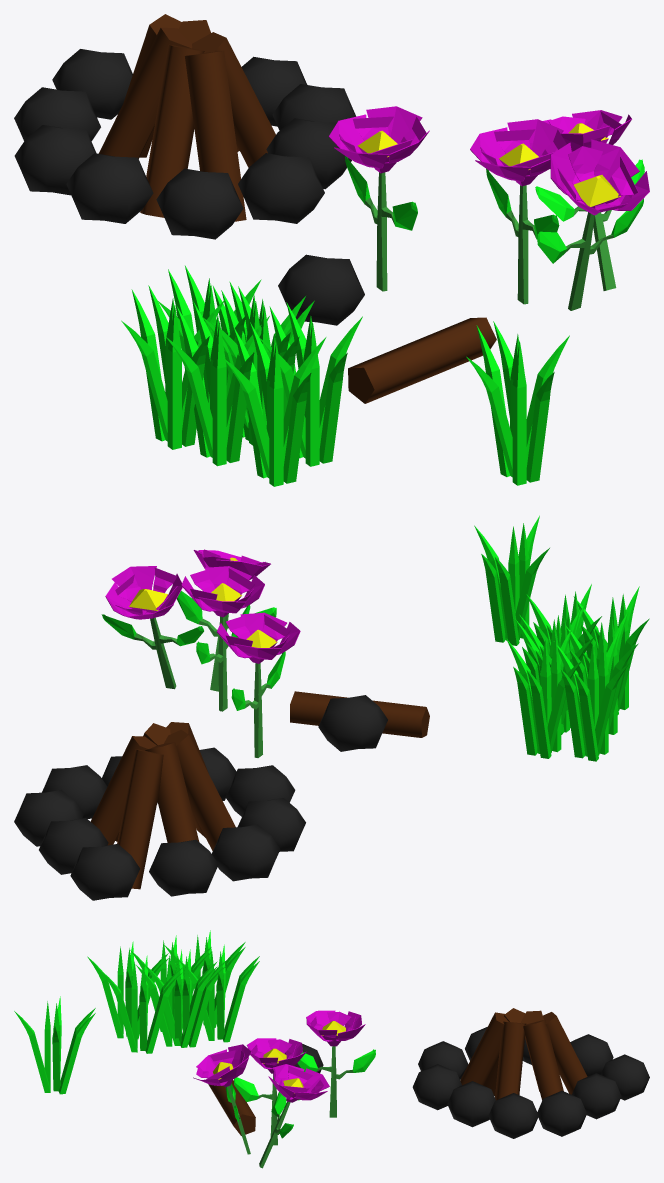
Rendered from modelagensemfbx.FBX.
3 views of the same model, one above another, from view 1: azimuth 30°, elevation 25°; view 2: azimuth 150°, elevation 25°; view 3: azimuth 270°, elevation 25° (orthographic). The views are drawn at different scales.
Parts seen in each view (by area): view 1: Box028, Box037, Box031, Box038, Box026, Box035, Box033, Cylinder010, Box030, Cylinder008, Cylinder004, Box015 (+16 smaller); view 2: Box029, Box033, Box032, Box037, Box038, Box026, Cylinder009, Cylinder004, Box014, Box011, Box036, Box012 (+15 smaller); view 3: Box038, Box037, Box030, Box029, Box026, Box032, Box025, Box028, Cylinder007, Cylinder003, Box034, Box031 (+14 smaller).
Part boxes in pixels (bbox=[...]): Box028: bbox=[537, 139, 649, 310]; Box037: bbox=[466, 321, 569, 485]; Box031: bbox=[223, 322, 326, 486]; Box038: bbox=[328, 106, 429, 291]; Box026: bbox=[470, 119, 570, 304]; Box035: bbox=[166, 301, 269, 466]; Box033: bbox=[121, 285, 224, 449]; Cylinder010: bbox=[348, 317, 496, 403]; Box030: bbox=[259, 302, 362, 466]; Cylinder008: bbox=[185, 51, 246, 221]; Cylinder004: bbox=[140, 44, 204, 217]; Box015: bbox=[66, 153, 153, 223]; Box029: bbox=[101, 566, 203, 689]; Box033: bbox=[553, 631, 629, 761]; Box032: bbox=[506, 628, 581, 758]; Box037: bbox=[474, 515, 549, 645]; Box038: bbox=[217, 612, 300, 757]; Box026: bbox=[181, 566, 264, 711]; Cylinder009: bbox=[117, 749, 163, 889]; Cylinder004: bbox=[164, 729, 235, 850]; Box014: bbox=[149, 839, 218, 896]; Box011: bbox=[70, 844, 140, 900]; Box036: bbox=[318, 695, 387, 751]; Box012: bbox=[212, 824, 280, 881]; Box038: bbox=[297, 1010, 375, 1117]; Box037: bbox=[14, 996, 95, 1094]; Box030: bbox=[101, 955, 182, 1053]; Box029: bbox=[259, 1064, 329, 1168]; Box026: bbox=[234, 1038, 306, 1145]; Box032: bbox=[178, 944, 259, 1042]; Box025: bbox=[136, 949, 217, 1047]; Box028: bbox=[193, 1044, 251, 1154]; Cylinder007: bbox=[495, 1021, 525, 1100]; Cylinder003: bbox=[523, 1020, 563, 1100]; Box034: bbox=[144, 949, 225, 1047]; Box031: bbox=[87, 941, 168, 1039].
Bounding box in the file's own units: 60.67 × 18.02 × 92.77.
